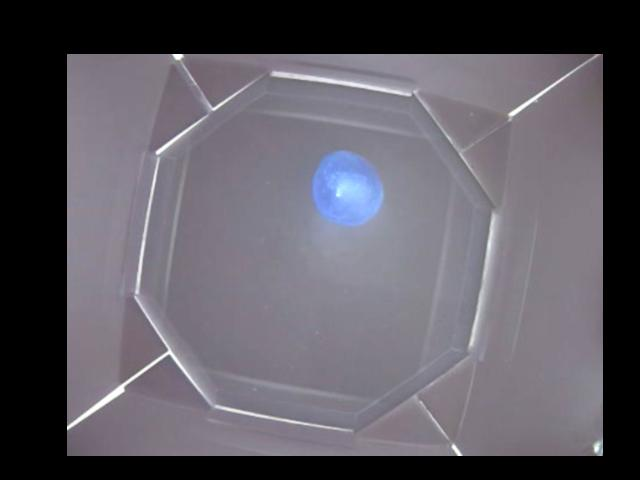Potato: (314, 149, 382, 226)
